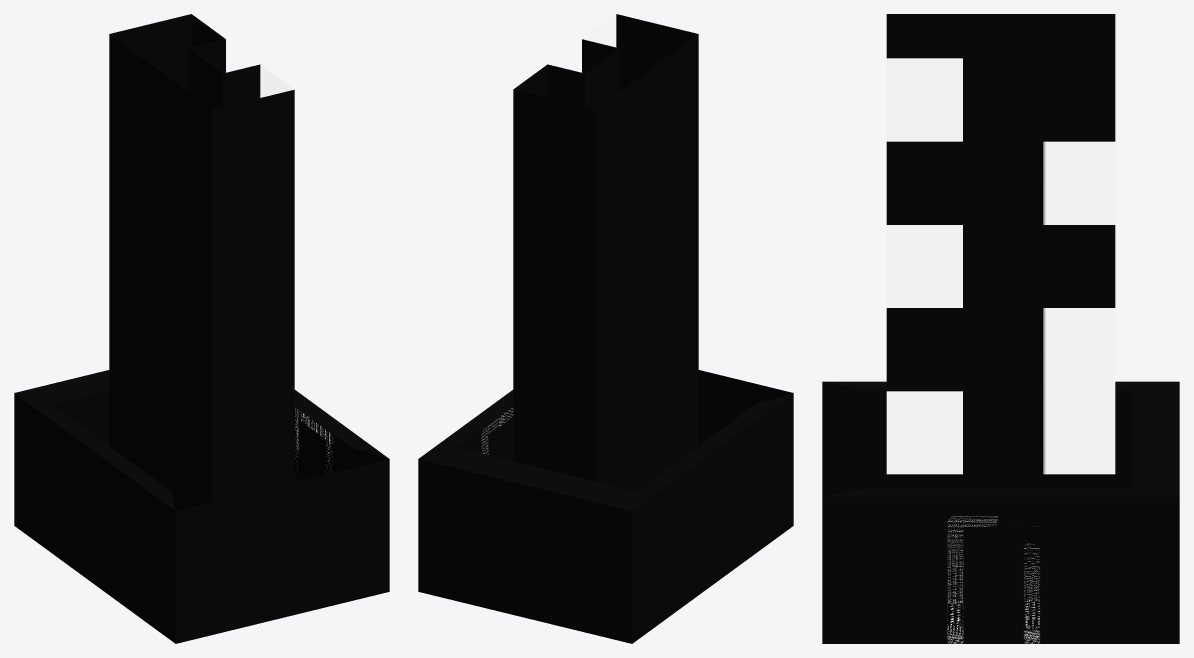
File: PredioGabriel.fbx
The picture shows the model from 3 angles, left to right: view 1: azimuth 30°, elevation 25°; view 2: azimuth 150°, elevation 25°; view 3: azimuth 270°, elevation 25°; orthographic projection. The views are drawn at different scales.
Parts seen in each view (by area): view 1: Cube; view 2: Cube; view 3: Cube.
Boxes of the visible parts, x1=… form: Cube: x1=14, y1=14, x2=389, y2=643; Cube: x1=418, y1=14, x2=793, y2=643; Cube: x1=822, y1=14, x2=1179, y2=643.
Bounding box in the file's own units: 519 × 1153 × 679.
Materials: 1 (1 with a texture image).
